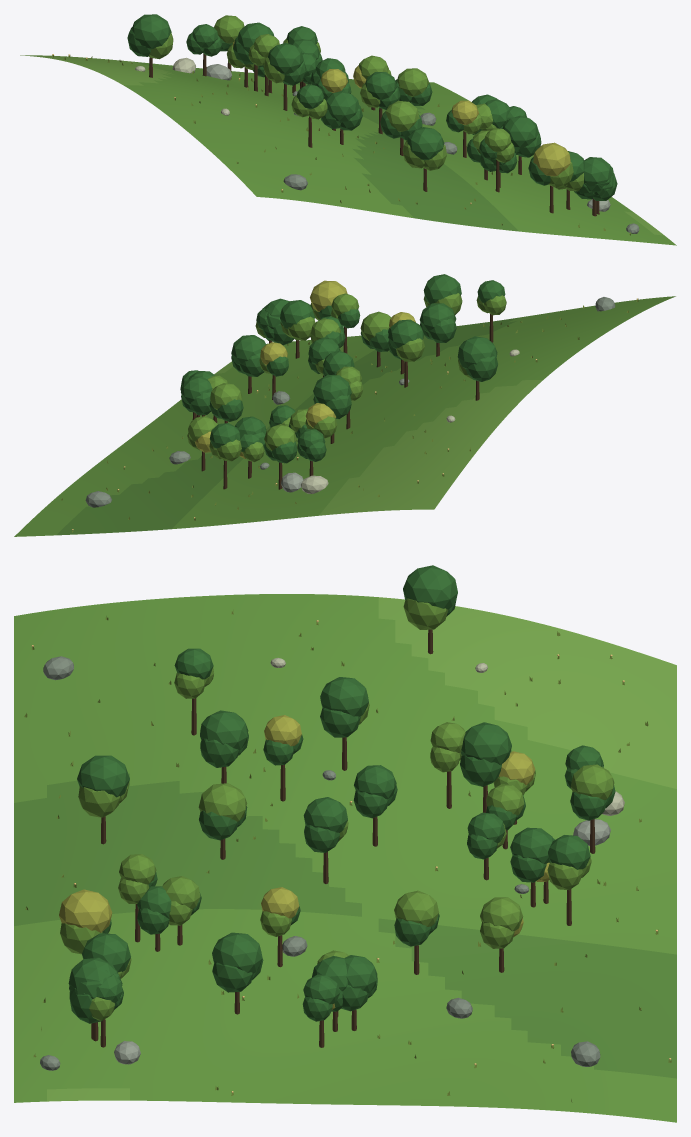
Rendered from Chunk_X3_Y0_Z2.fbx.
The picture shows the model from 3 angles, top to bottom: view 1: azimuth 30°, elevation 25°; view 2: azimuth 150°, elevation 25°; view 3: azimuth 270°, elevation 25°; orthographic projection. The views are drawn at different scales.
Parts seen in each view (by area): view 1: Terrain.047, Canopies.046, Trunks.046, Rocks.047, GroundCover.047; view 2: Terrain.047, Canopies.046, Rocks.047, Trunks.046, GroundCover.047; view 3: Terrain.047, Canopies.046, Rocks.047, Trunks.046, GroundCover.047.
Boxes of the visible parts, x1,y1,x2,y2 form: Terrain.047: (20,55,676,245); Canopies.046: (127,14,617,200); Trunks.046: (149,53,599,216); Rocks.047: (135,57,639,233); GroundCover.047: (52,54,630,235); Terrain.047: (14,296,675,536); Canopies.046: (180,274,506,463); Rocks.047: (85,297,615,507); Trunks.046: (192,314,493,489); GroundCover.047: (61,298,638,532); Terrain.047: (14,594,676,1122); Canopies.046: (59,565,615,1023); Rocks.047: (40,656,624,1070); Trunks.046: (91,629,595,1047); GroundCover.047: (24,609,671,1102).
Bounding box in the file's own units: 100 × 50.9 × 100.
